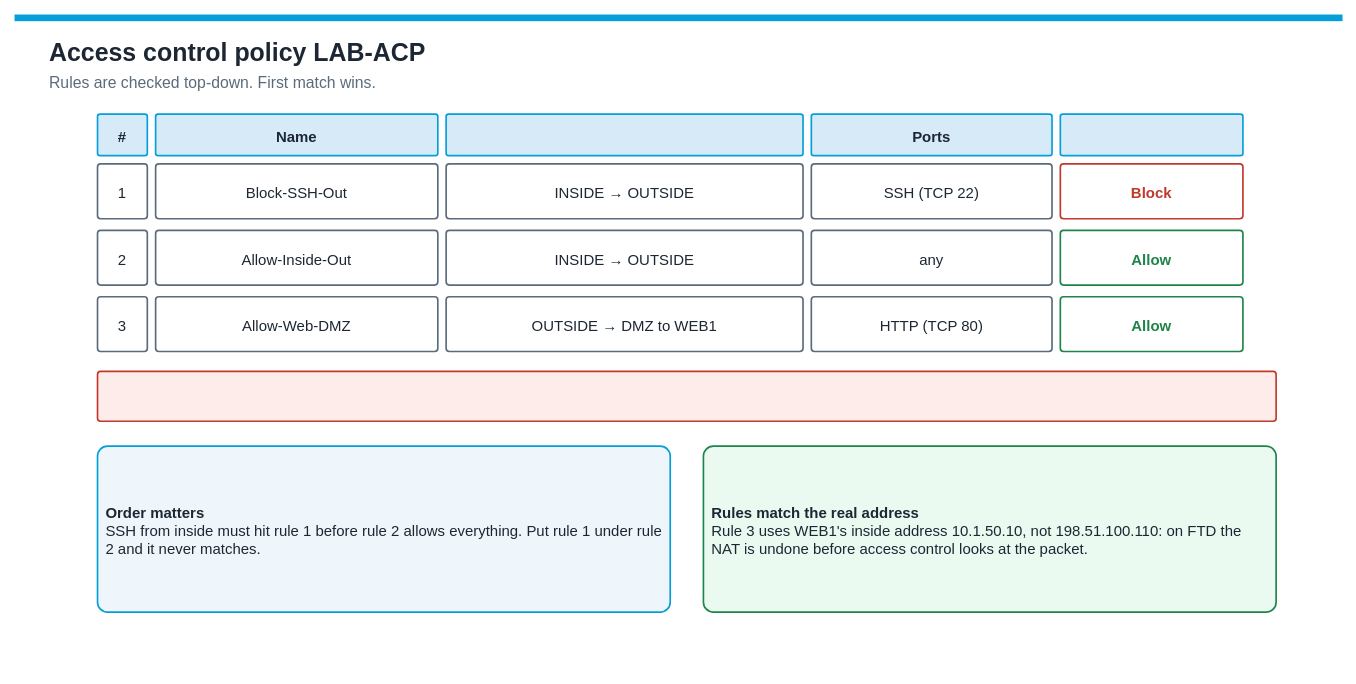
This 1356x684 diagram has some shape labels left out. Each missing label, with the box of its shape:
Action: (1059, 113, 1243, 156)
Default action: Block all traffic (anything no rule allows is dropped): (96, 370, 1277, 422)
Zones: (445, 113, 803, 156)
